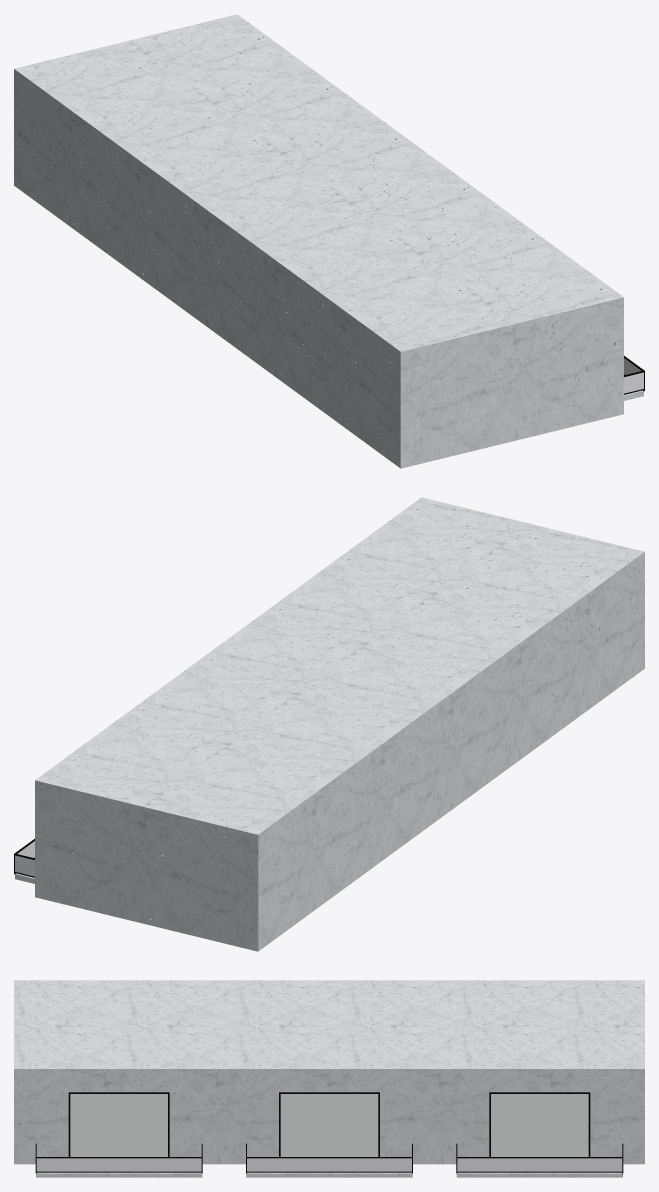
Rendered from Puso.fbx.
3 renders of one model, top to bottom at view 1: azimuth 30°, elevation 25°; view 2: azimuth 150°, elevation 25°; view 3: azimuth 270°, elevation 25°, orthographic. The views are drawn at different scales.
Visible parts, largest first — view 1: Cube; view 2: Cube; view 3: Cube.
Part boxes in pixels (box(x1,y1,x2,y2)): Cube: box(14, 14, 644, 468); Cube: box(14, 497, 644, 951); Cube: box(14, 980, 644, 1177).
Size of the model in its own units: 1153 by 500 by 3000.
Materials: 2 (2 with a texture image).
